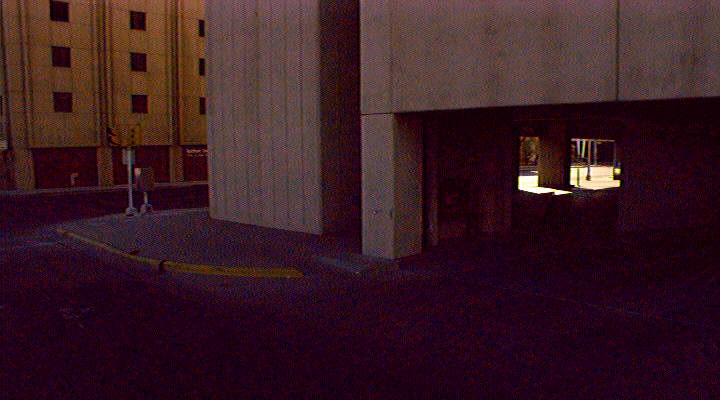Ramp: (262, 239, 363, 289), (50, 210, 117, 233)
